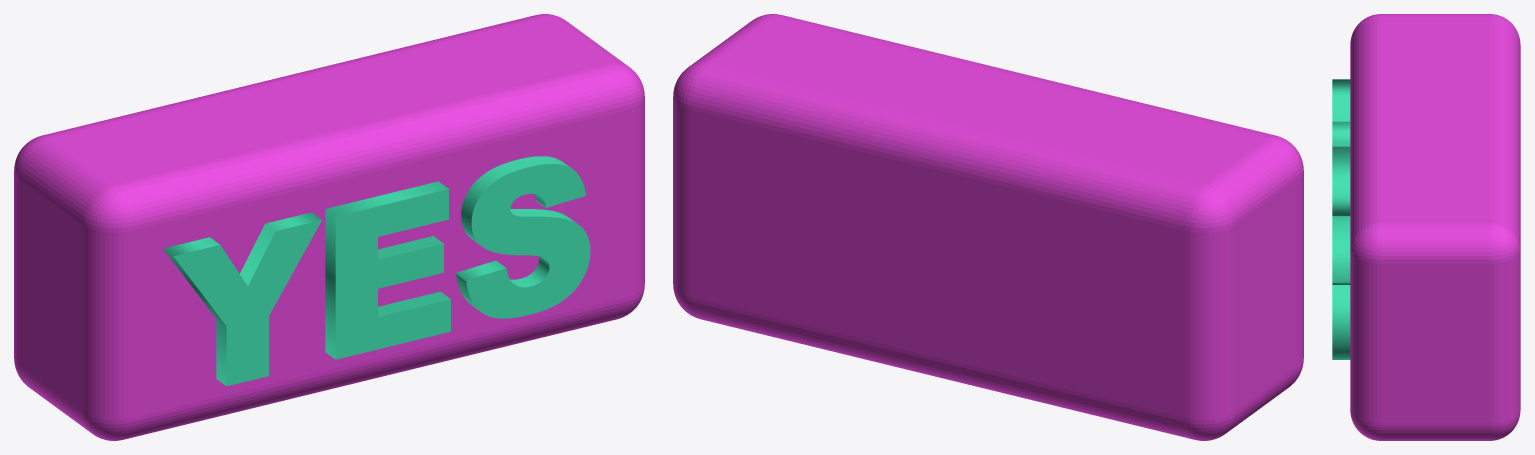
The model's file is yesbtn.glb.
3 renders of one model, left to right at view 1: azimuth 30°, elevation 25°; view 2: azimuth 150°, elevation 25°; view 3: azimuth 270°, elevation 25°, orthographic. The views are drawn at different scales.
Parts seen in each view (by area): view 1: Cube; view 2: Cube; view 3: Cube.
Boxes of the visible parts, x1=… form: Cube: x1=14, y1=14, x2=644, y2=440; Cube: x1=673, y1=14, x2=1303, y2=440; Cube: x1=1332, y1=14, x2=1520, y2=440.
Bounding box in the file's own units: 6.38 × 2.77 × 2.19.
